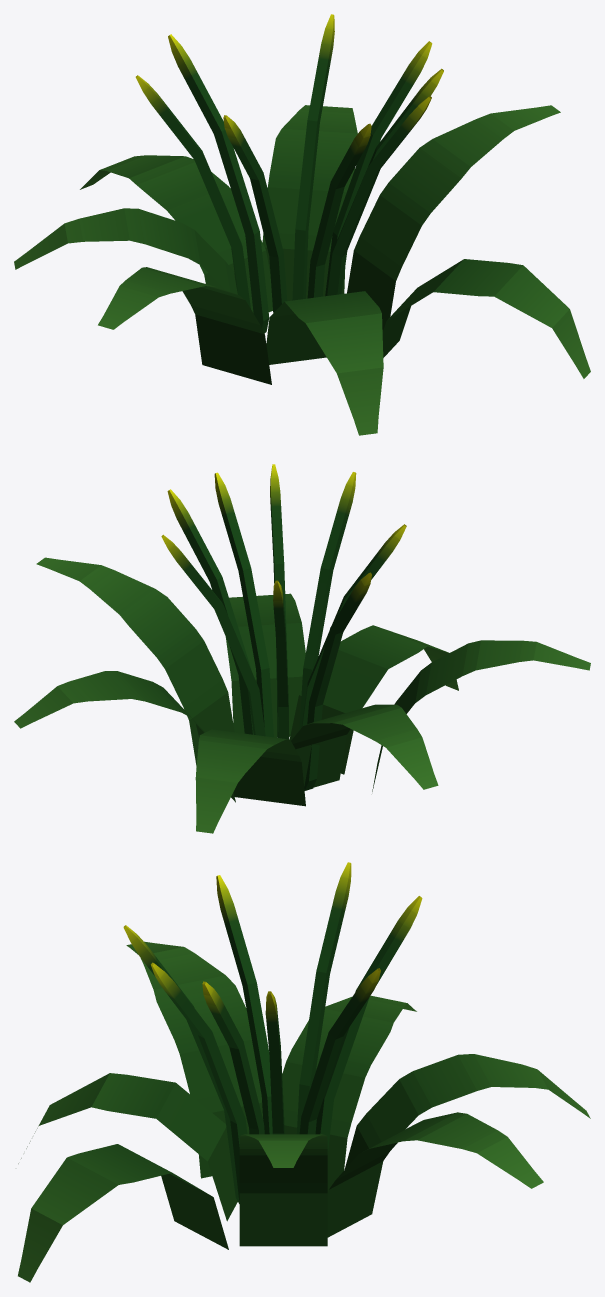
The model's file is plant_1.fbx.
3 views of the same model, one above another, from view 1: azimuth 30°, elevation 25°; view 2: azimuth 150°, elevation 25°; view 3: azimuth 270°, elevation 25° (orthographic). The views are drawn at different scales.
Parts seen in each view (by area): view 1: plant_1; view 2: plant_1; view 3: plant_1.
Part boxes in pixels (x1,y1,x2,y2): plant_1: (14, 14, 590, 435); plant_1: (14, 464, 590, 833); plant_1: (18, 862, 590, 1282).
Bounding box in the file's own units: 3.76 × 1.86 × 3.43.
